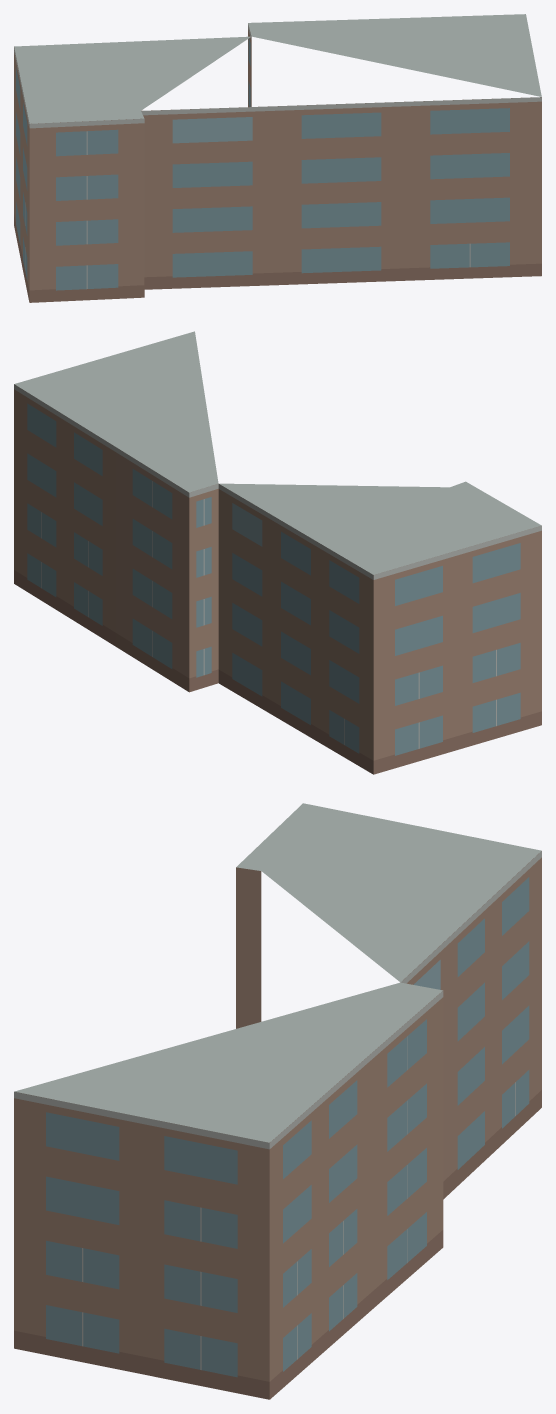
File: survey-upis-32743234.glb
The picture shows the model from 3 angles, top to bottom: view 1: azimuth 30°, elevation 25°; view 2: azimuth 150°, elevation 25°; view 3: azimuth 270°, elevation 25°; orthographic projection. The views are drawn at different scales.
Parts seen in each view (by area): view 1: survey-upis-32743234.tmp; view 2: survey-upis-32743234.tmp; view 3: survey-upis-32743234.tmp.
Part boxes in pixels (left/top/right/bottom): survey-upis-32743234.tmp: left=14, top=14, right=541, bottom=302; survey-upis-32743234.tmp: left=14, top=331, right=541, bottom=774; survey-upis-32743234.tmp: left=14, top=803, right=541, bottom=1399.
Size of the model in its own units: 26.94 by 9.5 by 17.69.
